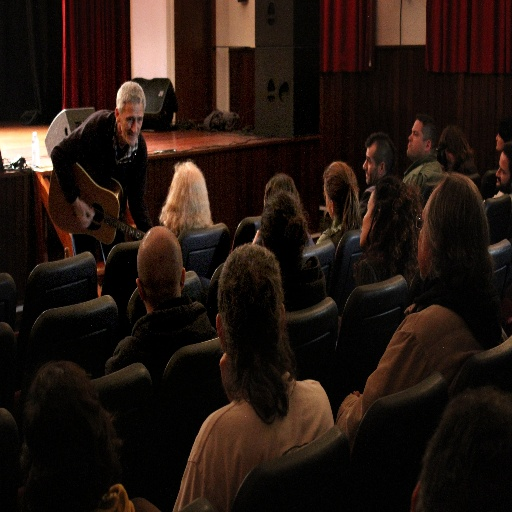hand: (70, 196, 97, 232), (218, 353, 236, 402), (105, 483, 136, 511)
